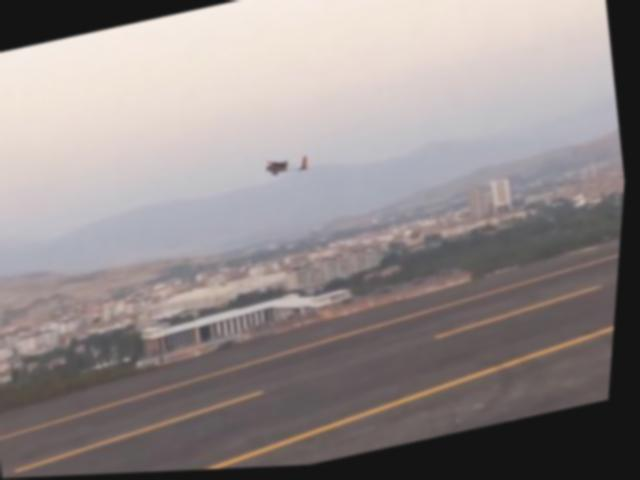uav: (255, 145, 319, 192)
